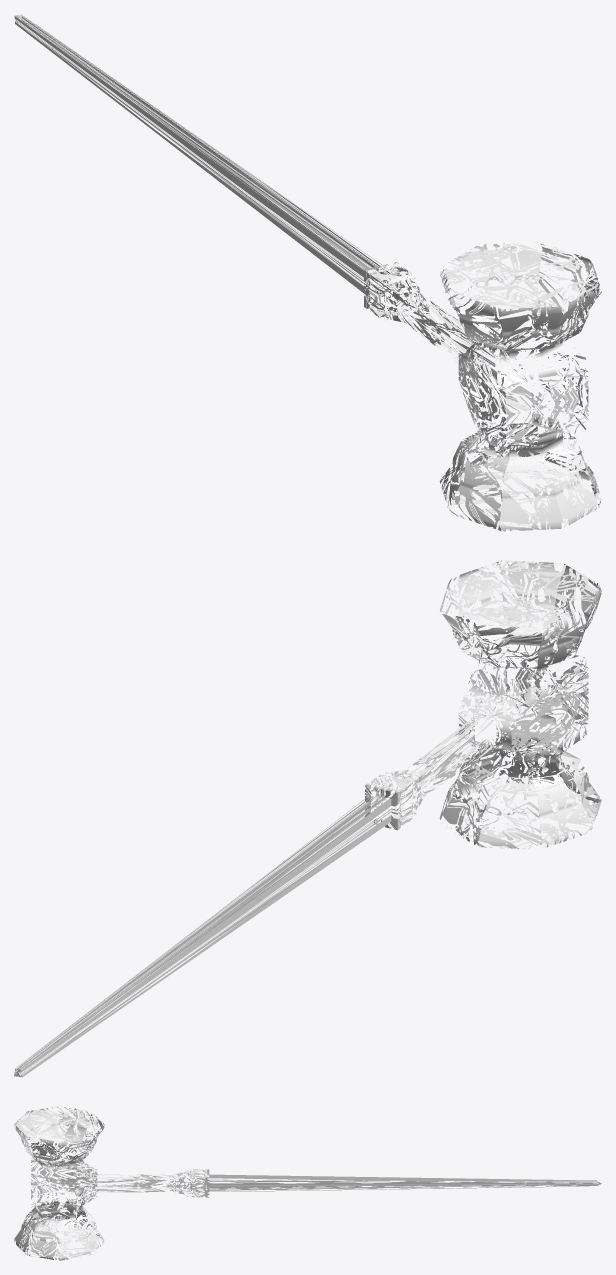
File: GlassHammerMesh.fbx
The picture shows the model from 3 angles, top to bottom: view 1: azimuth 30°, elevation 25°; view 2: azimuth 150°, elevation 25°; view 3: azimuth 270°, elevation 25°; orthographic projection. The views are drawn at different scales.
Parts seen in each view (by area): view 1: GlassHammerMesh; view 2: GlassHammerMesh; view 3: GlassHammerMesh.
Part boxes in pixels (bbox=[...]): GlassHammerMesh: bbox=[14, 14, 601, 531]; GlassHammerMesh: bbox=[14, 560, 601, 1077]; GlassHammerMesh: bbox=[14, 1106, 601, 1260].
Size of the model in its own units: 7.31 by 10.66 by 47.77.
1 material, 1 textured.
